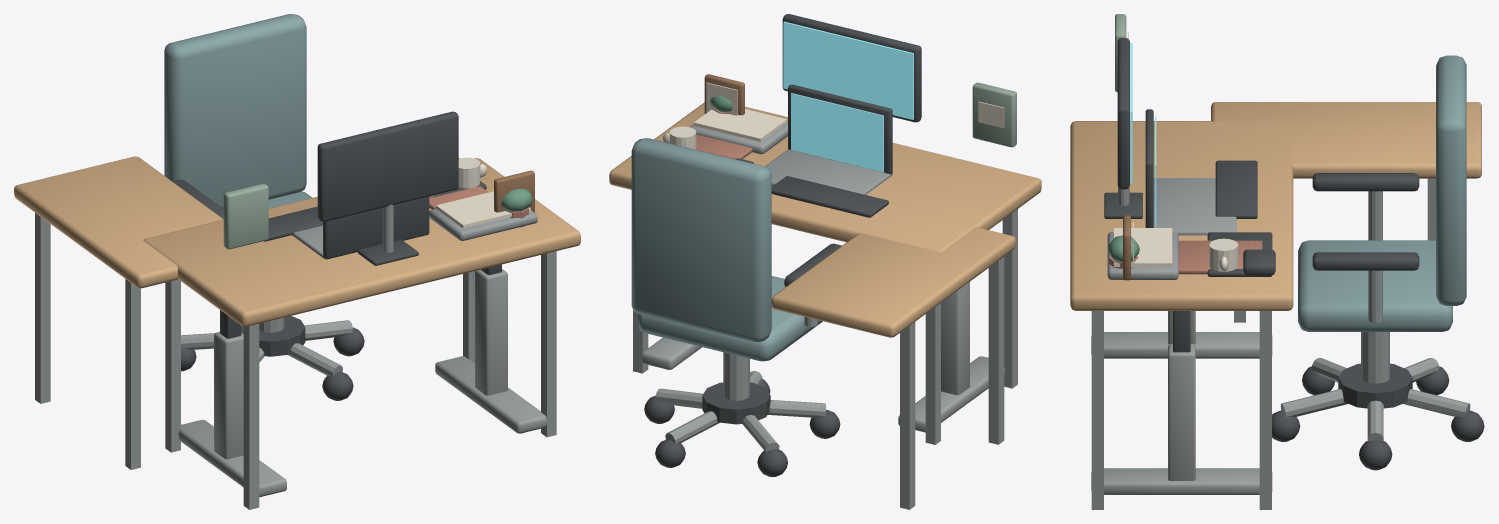
The model's file is workstation_kit.glb.
3 views of the same model, side by side, from view 1: azimuth 30°, elevation 25°; view 2: azimuth 150°, elevation 25°; view 3: azimuth 270°, elevation 25° (orthographic). The views are drawn at different scales.
Parts seen in each view (by area): view 1: kit chair back, desk top.001, L return, monitor shell, lower telescope.001, laptop lid, lower telescope, desk leg.004, T foot.001, return leg, return leg.001, desk leg.006 (+14 smaller); view 2: kit chair back, desk top.001, L return, monitor screen, laptop screen, kit chair cushion, return leg, laptop base, lower telescope, return leg.001, keyboard, desk leg.004 (+25 smaller); view 3: desk top.001, L return, kit chair cushion, kit chair back, T foot.001, laptop base, lower telescope.001, T foot, desk leg.006, desk leg.007, keyboard, kit chair hub (+27 smaller).
Part boxes in pixels (x1,y1,x2,y2): kit chair back: [164, 14, 306, 208]; desk top.001: [143, 158, 580, 326]; L return: [14, 156, 223, 288]; monitor shell: [317, 111, 458, 221]; lower telescope.001: [475, 269, 507, 395]; laptop lid: [323, 196, 429, 259]; lower telescope: [214, 331, 243, 459]; desk leg.004: [243, 324, 259, 509]; T foot.001: [435, 356, 546, 433]; return leg: [125, 279, 140, 469]; return leg.001: [35, 213, 50, 403]; desk leg.006: [541, 251, 556, 437]; kit chair back: [631, 138, 771, 341]; desk top.001: [609, 102, 1041, 251]; L return: [771, 227, 1015, 337]; monitor screen: [783, 21, 913, 119]; laptop screen: [791, 93, 883, 172]; kit chair cushion: [638, 276, 822, 361]; return leg: [988, 257, 1004, 444]; laptop base: [765, 149, 892, 194]; lower telescope: [941, 282, 969, 395]; return leg.001: [900, 322, 915, 509]; keyboard: [771, 176, 888, 217]; desk leg.004: [1002, 209, 1017, 388]; desk top.001: [1070, 121, 1293, 310]; L return: [1211, 102, 1481, 178]; kit chair cushion: [1298, 240, 1452, 331]; kit chair back: [1436, 55, 1466, 305]; T foot.001: [1091, 468, 1272, 494]; laptop base: [1153, 178, 1236, 235]; lower telescope.001: [1168, 343, 1195, 480]; T foot: [1091, 332, 1272, 358]; desk leg.006: [1091, 311, 1103, 509]; desk leg.007: [1259, 311, 1271, 509]; keyboard: [1215, 160, 1257, 218]; kit chair hub: [1338, 363, 1412, 408].
Bounding box in the file's own units: 1.45 × 1.22 × 1.28.
